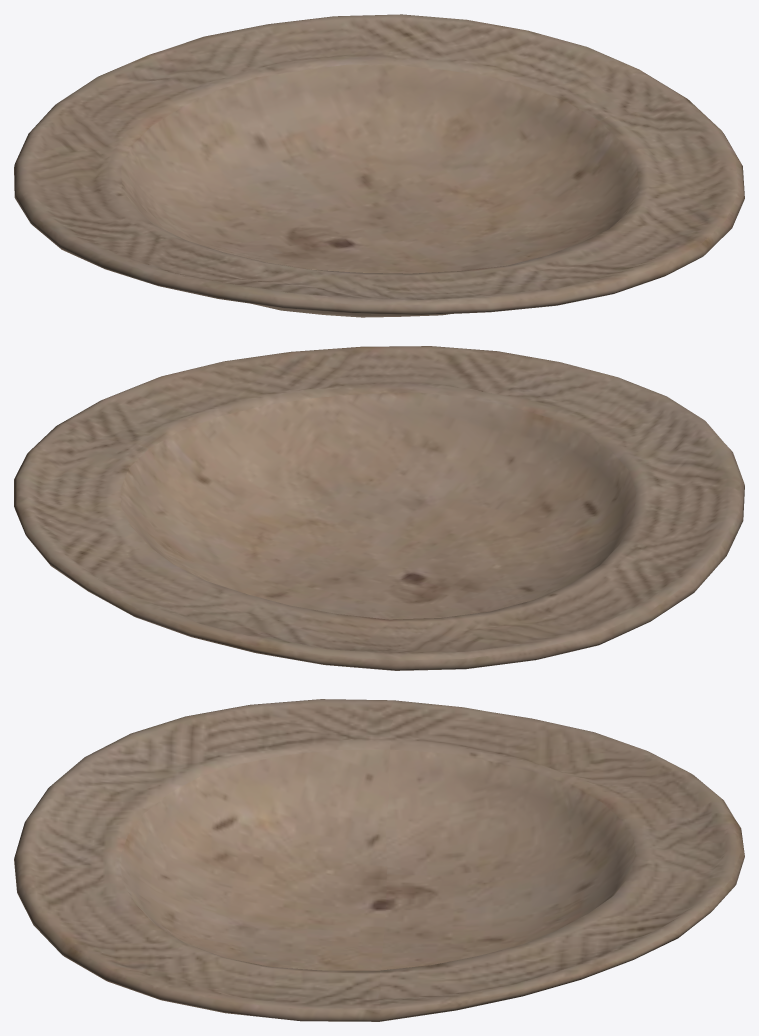
The model's file is platter.glb.
The picture shows the model from 3 angles, top to bottom: view 1: azimuth 30°, elevation 25°; view 2: azimuth 150°, elevation 25°; view 3: azimuth 270°, elevation 25°; orthographic projection. The views are drawn at different scales.
Parts seen in each view (by area): view 1: carved_wooden_plate; view 2: carved_wooden_plate; view 3: carved_wooden_plate.
Part boxes in pixels (x1,y1,x2,y2): carved_wooden_plate: (14, 14, 744, 317); carved_wooden_plate: (14, 346, 744, 670); carved_wooden_plate: (14, 699, 744, 1021).
Size of the model in its own units: 0.2718 by 0.0381 by 0.2688.
1 material, 1 textured.
